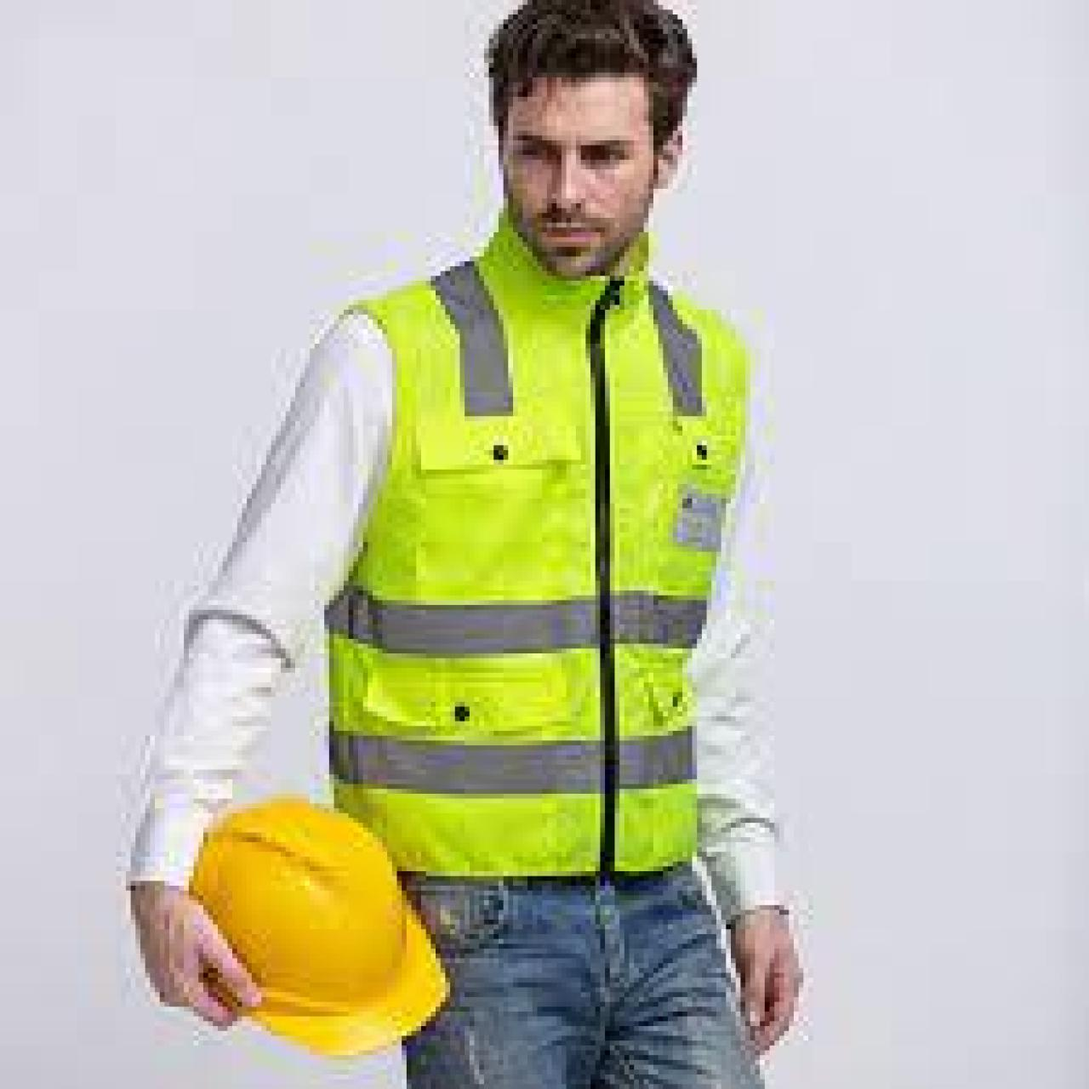Person: (127, 0, 867, 1084)
Safety_Vest: (292, 199, 819, 884)
